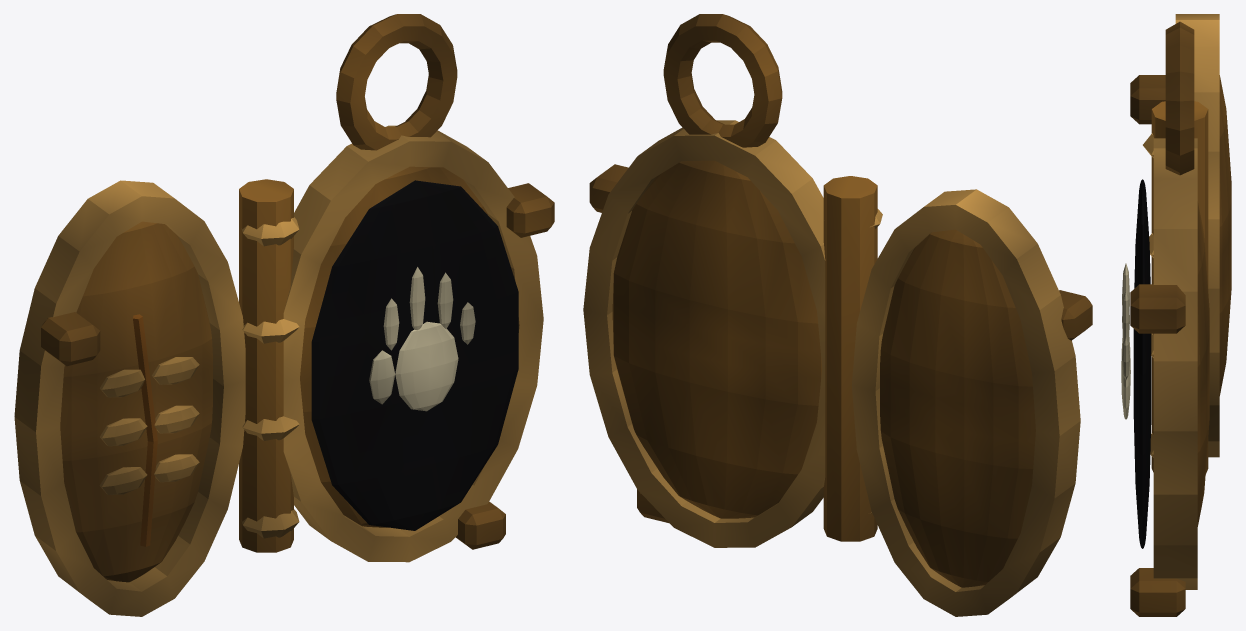
Rendered from lost_locket.fbx.
The picture shows the model from 3 angles, left to right: view 1: azimuth 30°, elevation 25°; view 2: azimuth 150°, elevation 25°; view 3: azimuth 270°, elevation 25°; orthographic projection. The views are drawn at different scales.
Parts seen in each view (by area): view 1: lost_locket; view 2: lost_locket; view 3: lost_locket.
Part boxes in pixels (box(x1,y1,x2,y2)): lost_locket: box(14, 14, 554, 616); lost_locket: box(583, 14, 1092, 616); lost_locket: box(1121, 14, 1231, 616).
Size of the model in its own units: 2.69 by 2.77 by 0.5018.
